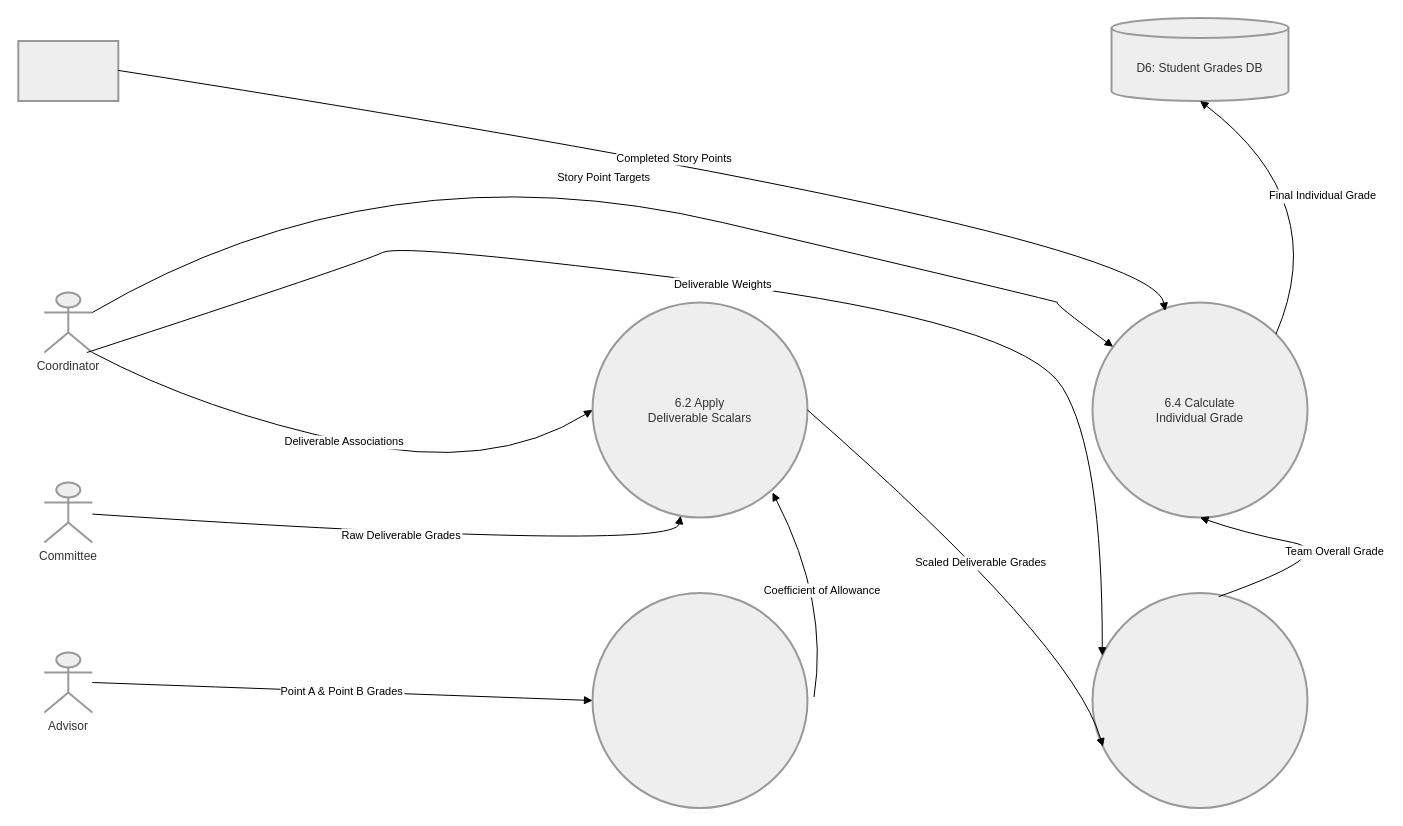
The diagram is 1403 pixels wide and 826 high, and some of its shapes have lost their labels. Here are the shapes that lost their labels. From the top down, the box of each, then its label:
(17, 40, 119, 102): JIRA / GitHub Integration
(591, 592, 808, 808): 6.1 Calculate Team Allowance Coefficient
(1091, 592, 1308, 808): 6.3 Apply Deliverable Weights
